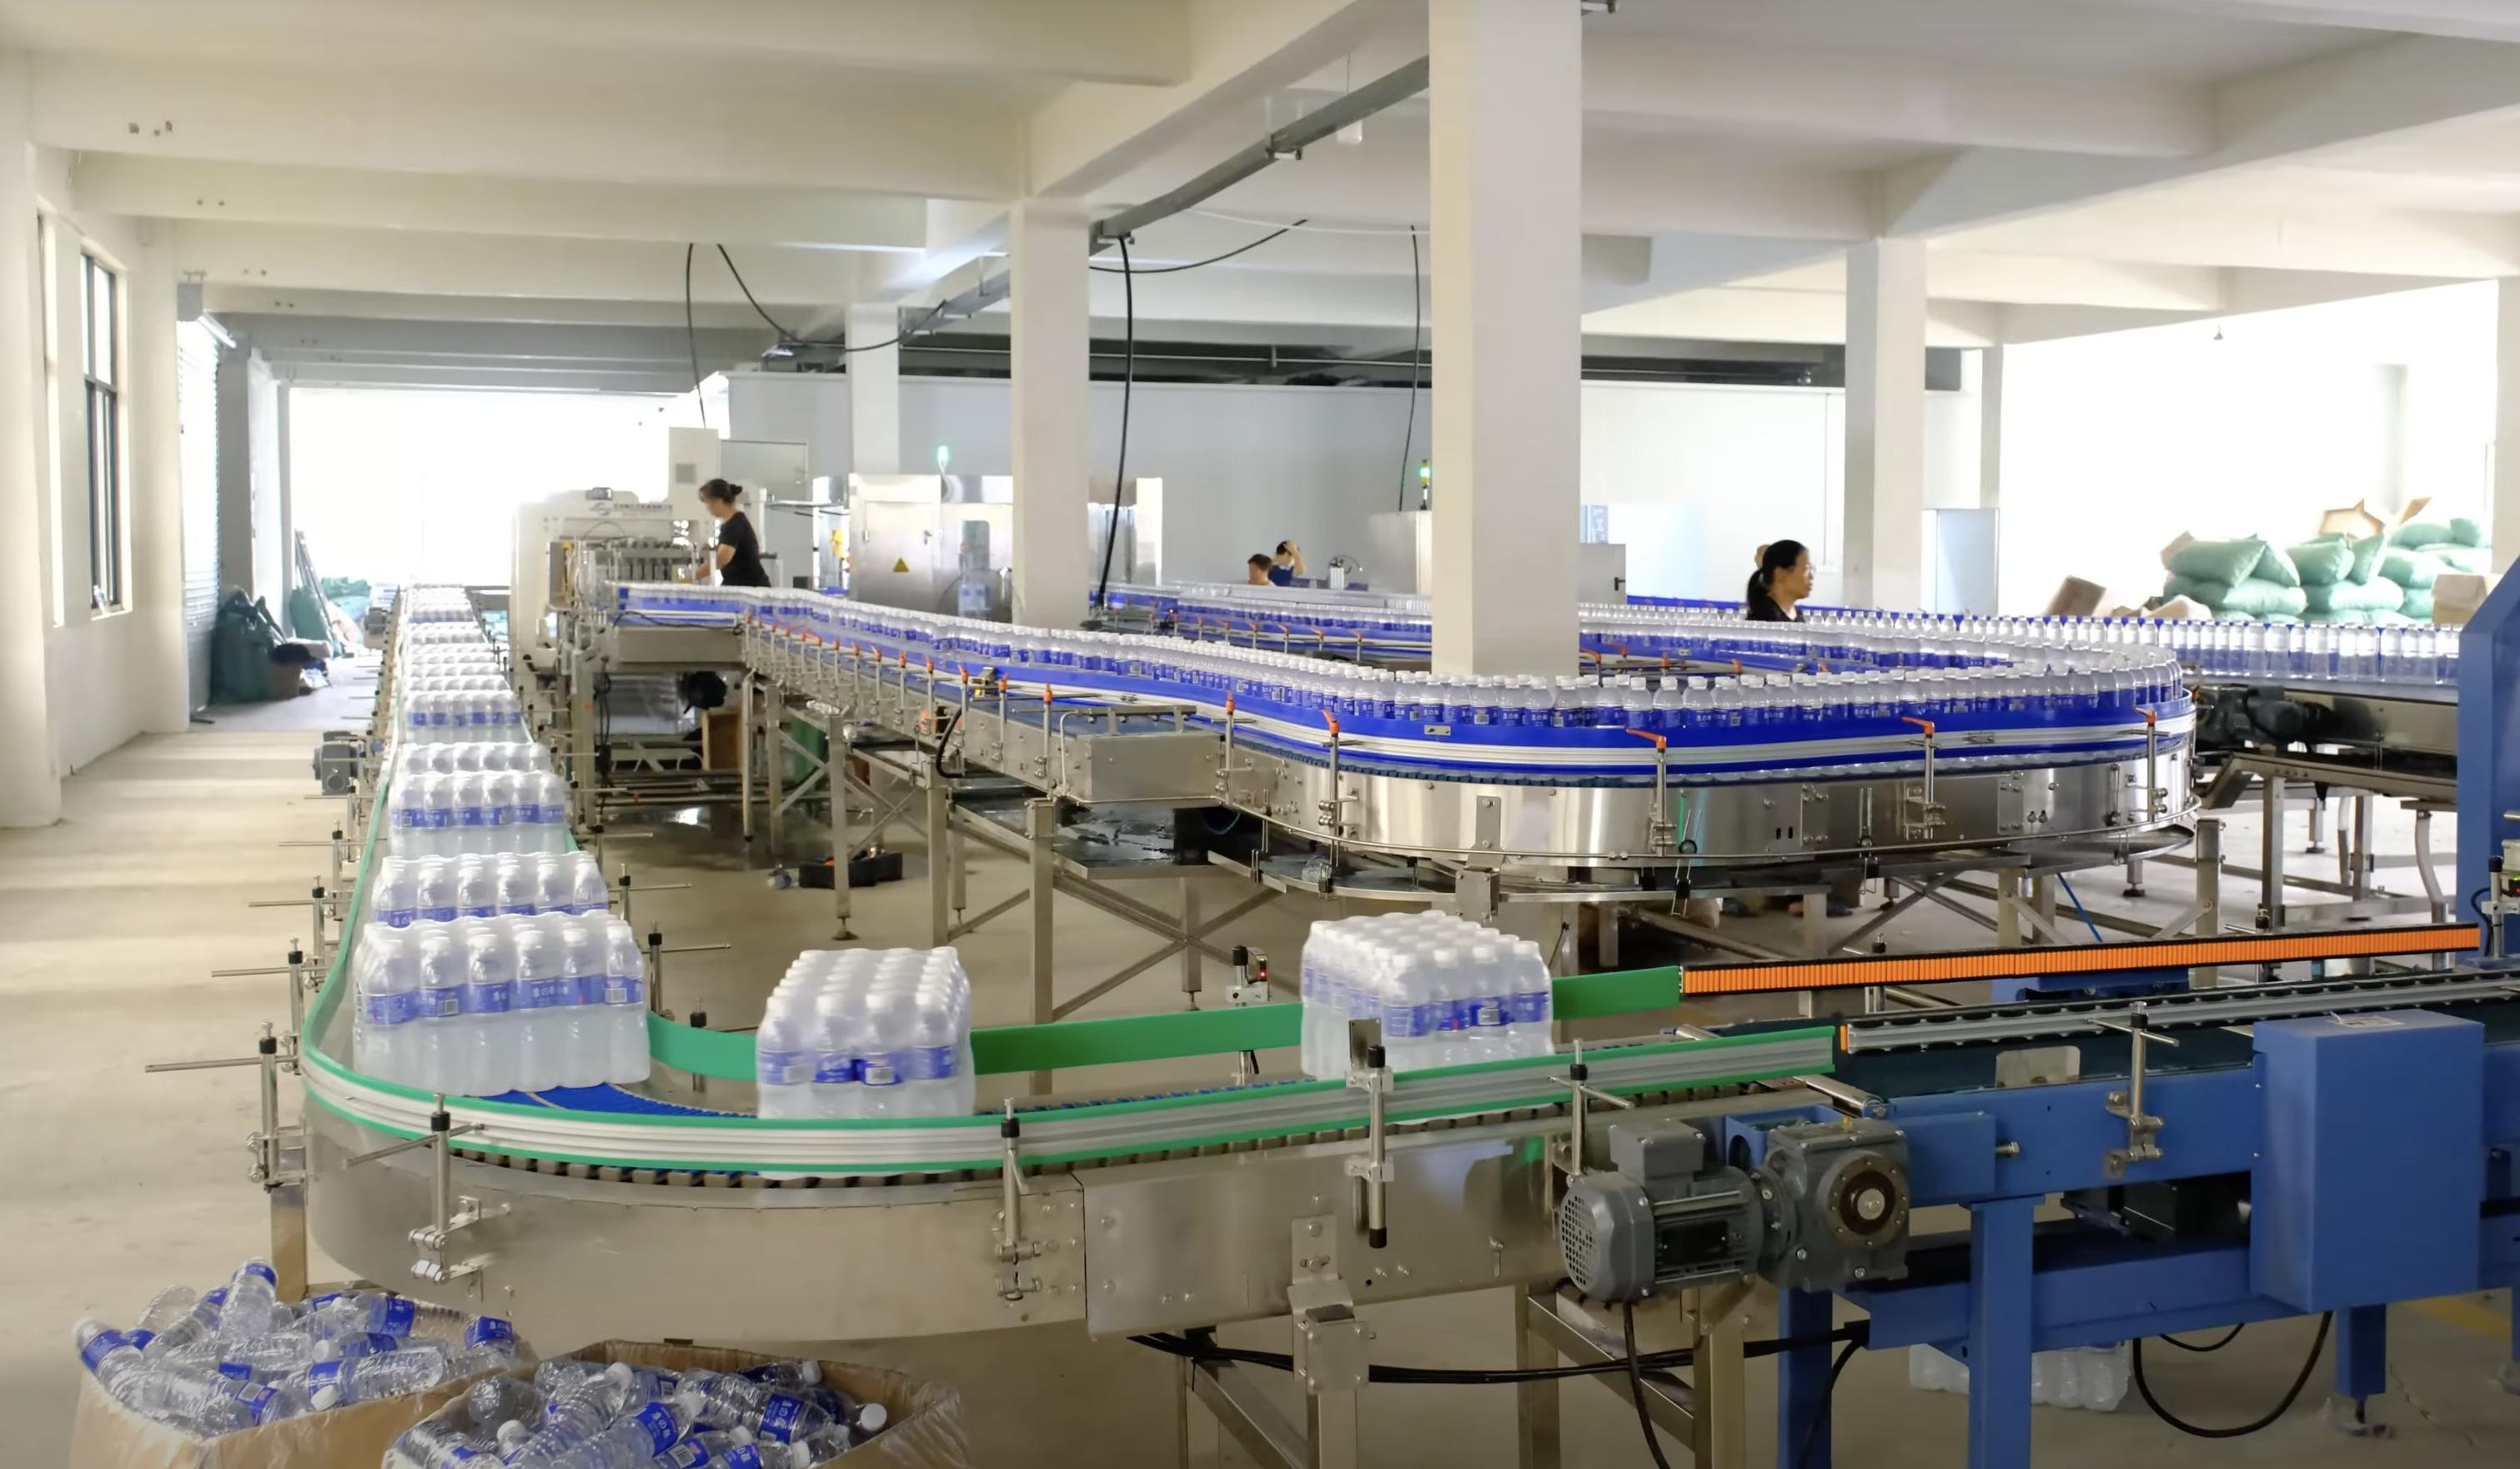pallet: (343, 915, 659, 1086), (745, 932, 979, 1117), (1303, 906, 1570, 1067), (376, 843, 607, 909), (390, 768, 574, 843), (400, 684, 521, 731), (392, 734, 551, 769)
